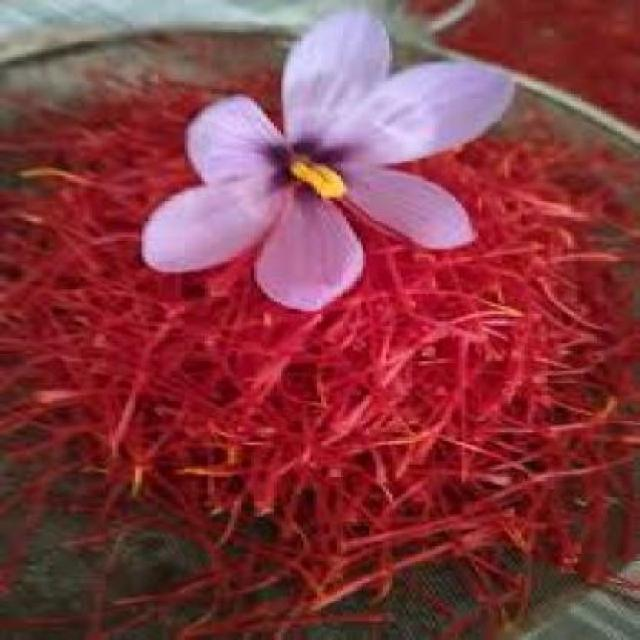saffron open: (141, 12, 515, 309)
